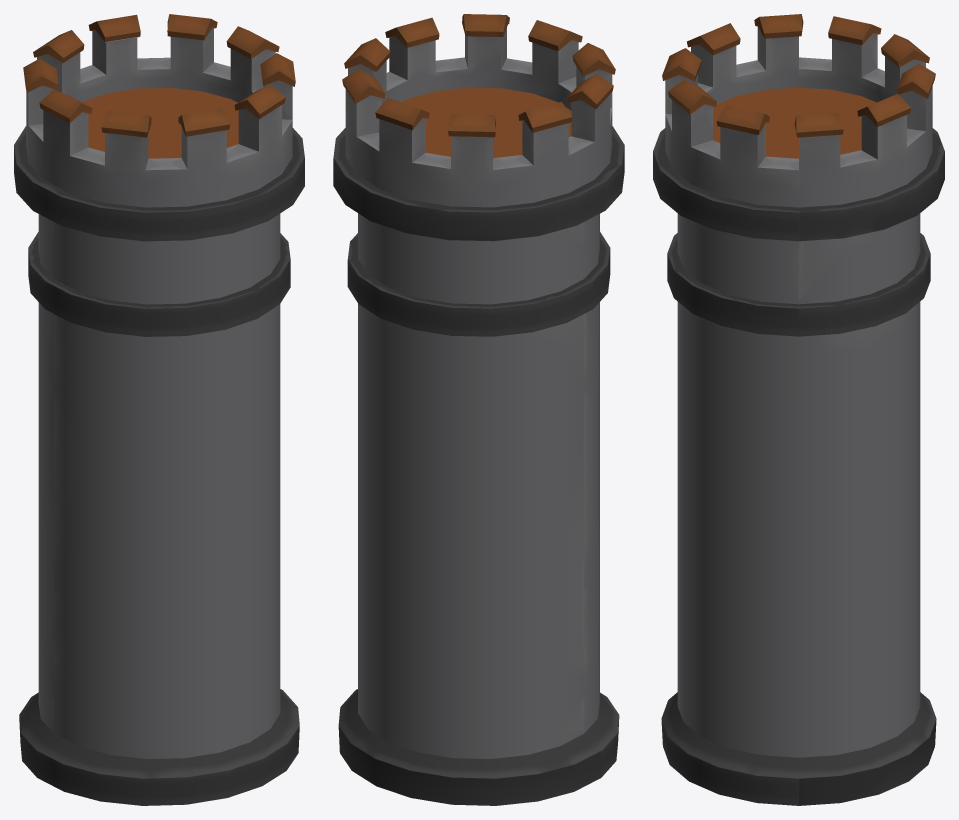
File: Caslte_tower.fbx
3 renders of one model, left to right at view 1: azimuth 30°, elevation 25°; view 2: azimuth 150°, elevation 25°; view 3: azimuth 270°, elevation 25°, orthographic.
Visible parts, largest first — view 1: castle_Tower5; view 2: castle_Tower5; view 3: castle_Tower5.
Boxes of the visible parts, x1,y1,x2,y2 form: castle_Tower5: (14,14,304,805); castle_Tower5: (333,14,624,805); castle_Tower5: (653,14,944,805).
Size of the model in its own units: 19.88 by 51.23 by 19.88.
